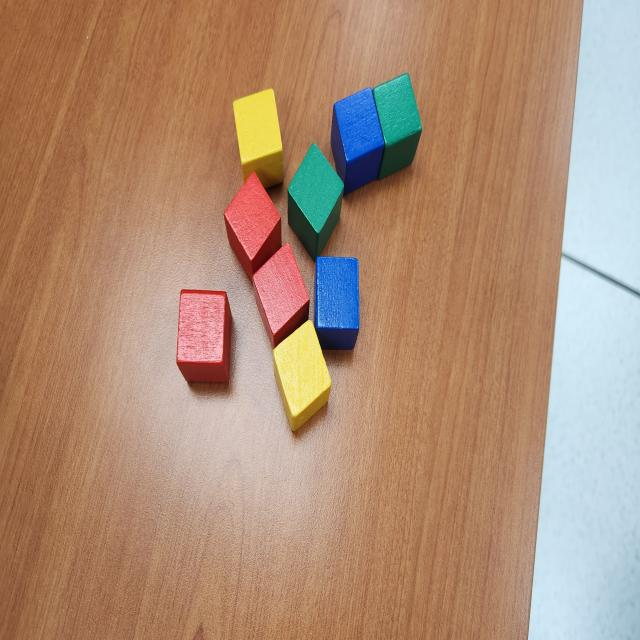blue: (329, 87, 386, 195), (313, 256, 360, 352)
green: (286, 140, 344, 262), (372, 72, 422, 181)
red: (224, 170, 282, 287), (253, 240, 311, 350), (176, 290, 233, 384)
yellow: (272, 318, 332, 434), (234, 88, 284, 189)
